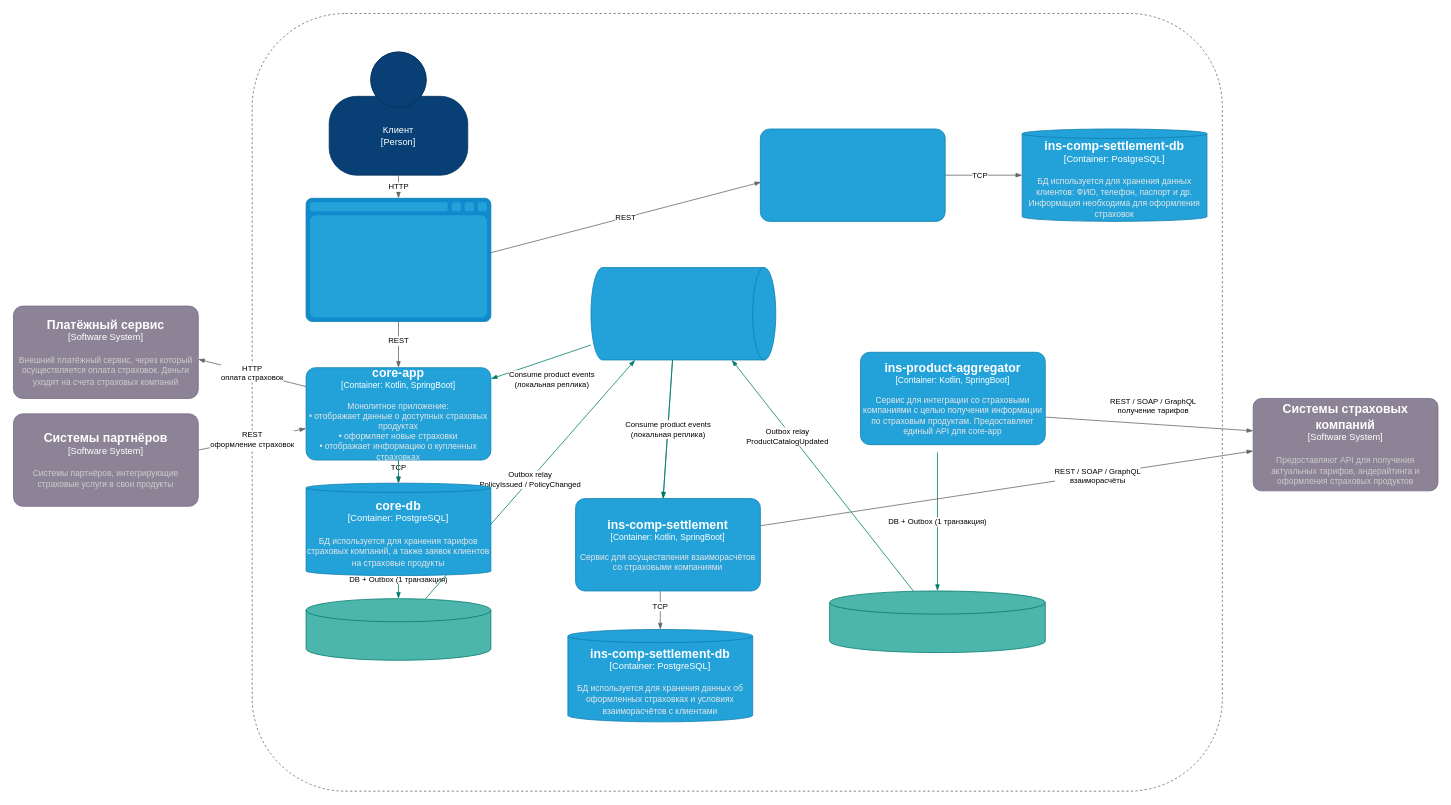
Image size: 1451x805. Some labels were removed from this diagram. Each missing label, with the centre of its shape:
"client-info [Container: Kotlin, SpringBoot] Сервис для учёта клиентских данных" belongs at pixel 852 174.
"core-app outbox [Transactional Outbox table]" belongs at pixel 398 629.
"Event Broker [Container: Kafka] Event Streaming" belongs at pixel 683 313.
"ins-product-aggregator outbox [Transactional Outbox table]" belongs at pixel 937 621.
"InsureTech Web [Container: JavaScript, React] Веб-приложение InsureTech" belongs at pixel 398 259.
